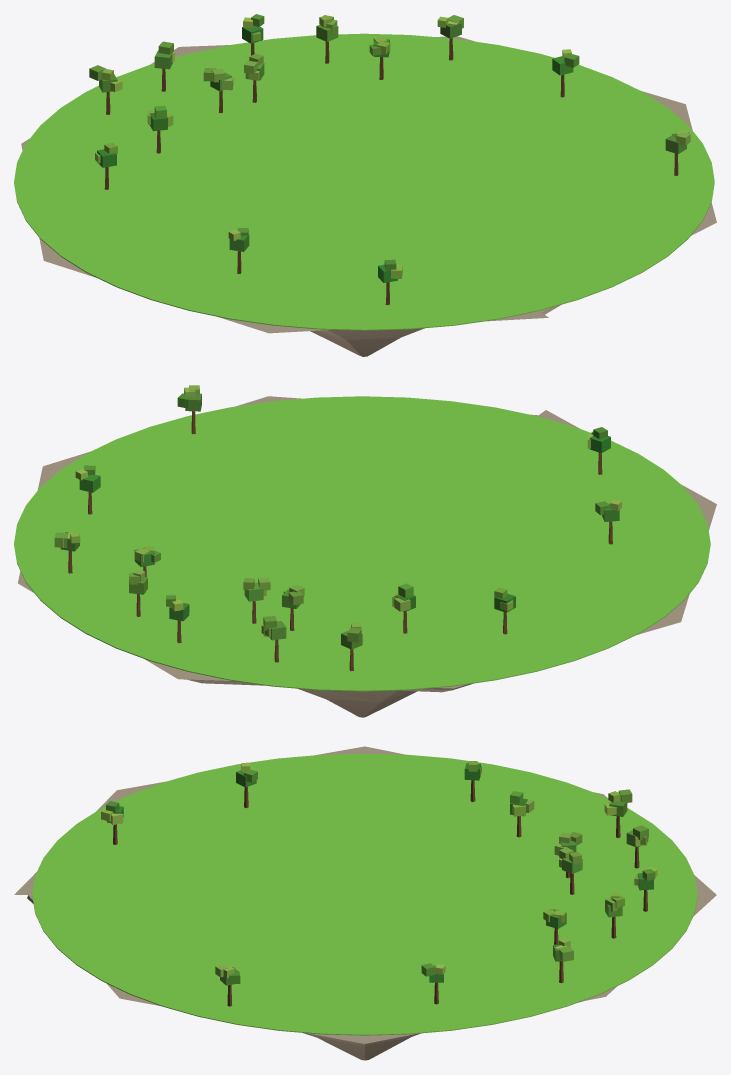
File: island.glb
3 renders of one model, top to bottom at view 1: azimuth 30°, elevation 25°; view 2: azimuth 150°, elevation 25°; view 3: azimuth 270°, elevation 25°, orthographic. The views are drawn at different scales.
Parts seen in each view (by area): view 1: island_grass, island_foliage, island_stone, island_bark; view 2: island_grass, island_foliage, island_stone, island_bark; view 3: island_grass, island_foliage, island_stone, island_bark.
Part boxes in pixels (box(x1,y1,x2,y2)): island_grass: box(14, 33, 714, 330); island_foliage: box(89, 14, 690, 282); island_stone: box(21, 36, 716, 356); island_bark: box(104, 38, 678, 304); island_grass: box(14, 396, 710, 691); island_foliage: box(54, 385, 621, 649); island_stone: box(18, 396, 716, 717); island_bark: box(68, 411, 612, 671); island_grass: box(32, 753, 697, 1035); island_foliage: box(101, 761, 657, 985); island_stone: box(14, 746, 716, 1060); island_bark: box(113, 780, 647, 1006).
Size of the model in its own units: 62.63 by 20.32 by 62.54.
